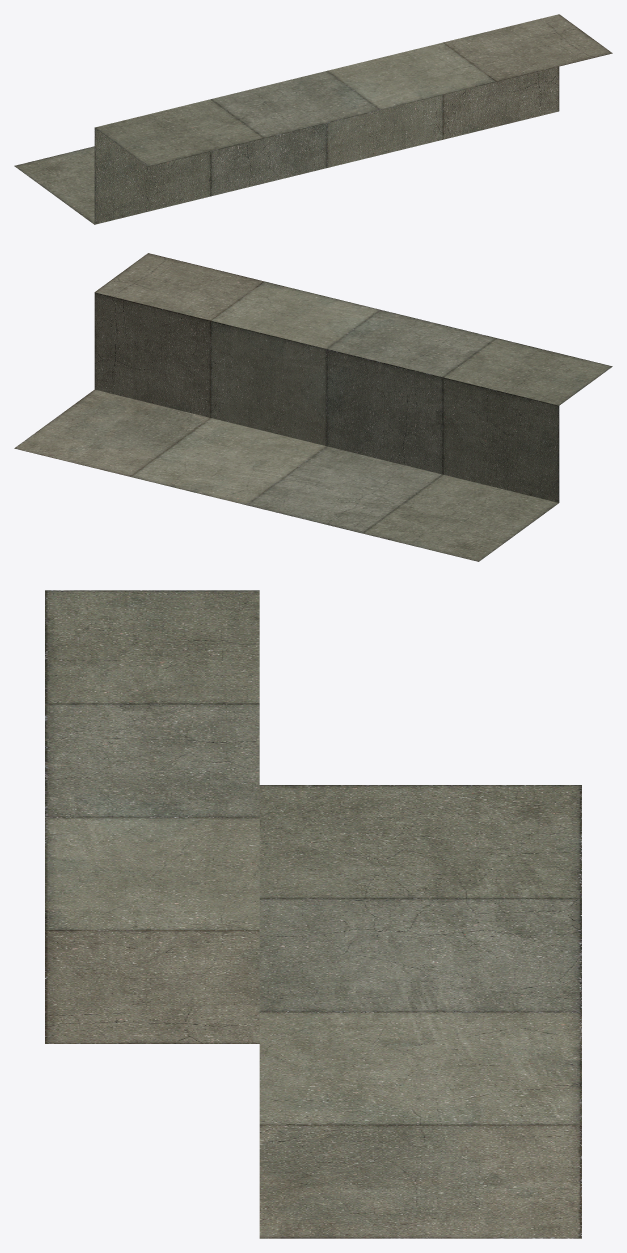
The model's file is Sidewalk_07.fbx.
3 renders of one model, top to bottom at view 1: azimuth 30°, elevation 25°; view 2: azimuth 150°, elevation 25°; view 3: azimuth 270°, elevation 25°, orthographic. The views are drawn at different scales.
Parts seen in each view (by area): view 1: Sidewalk_07; view 2: Sidewalk_07; view 3: Sidewalk_07.
Boxes of the visible parts, <box> form: Sidewalk_07: <box>14,14,612,224</box>; Sidewalk_07: <box>14,253,612,561</box>; Sidewalk_07: <box>45,590,581,1238</box>.
Bounding box in the file's own units: 400 × 80 × 200.
